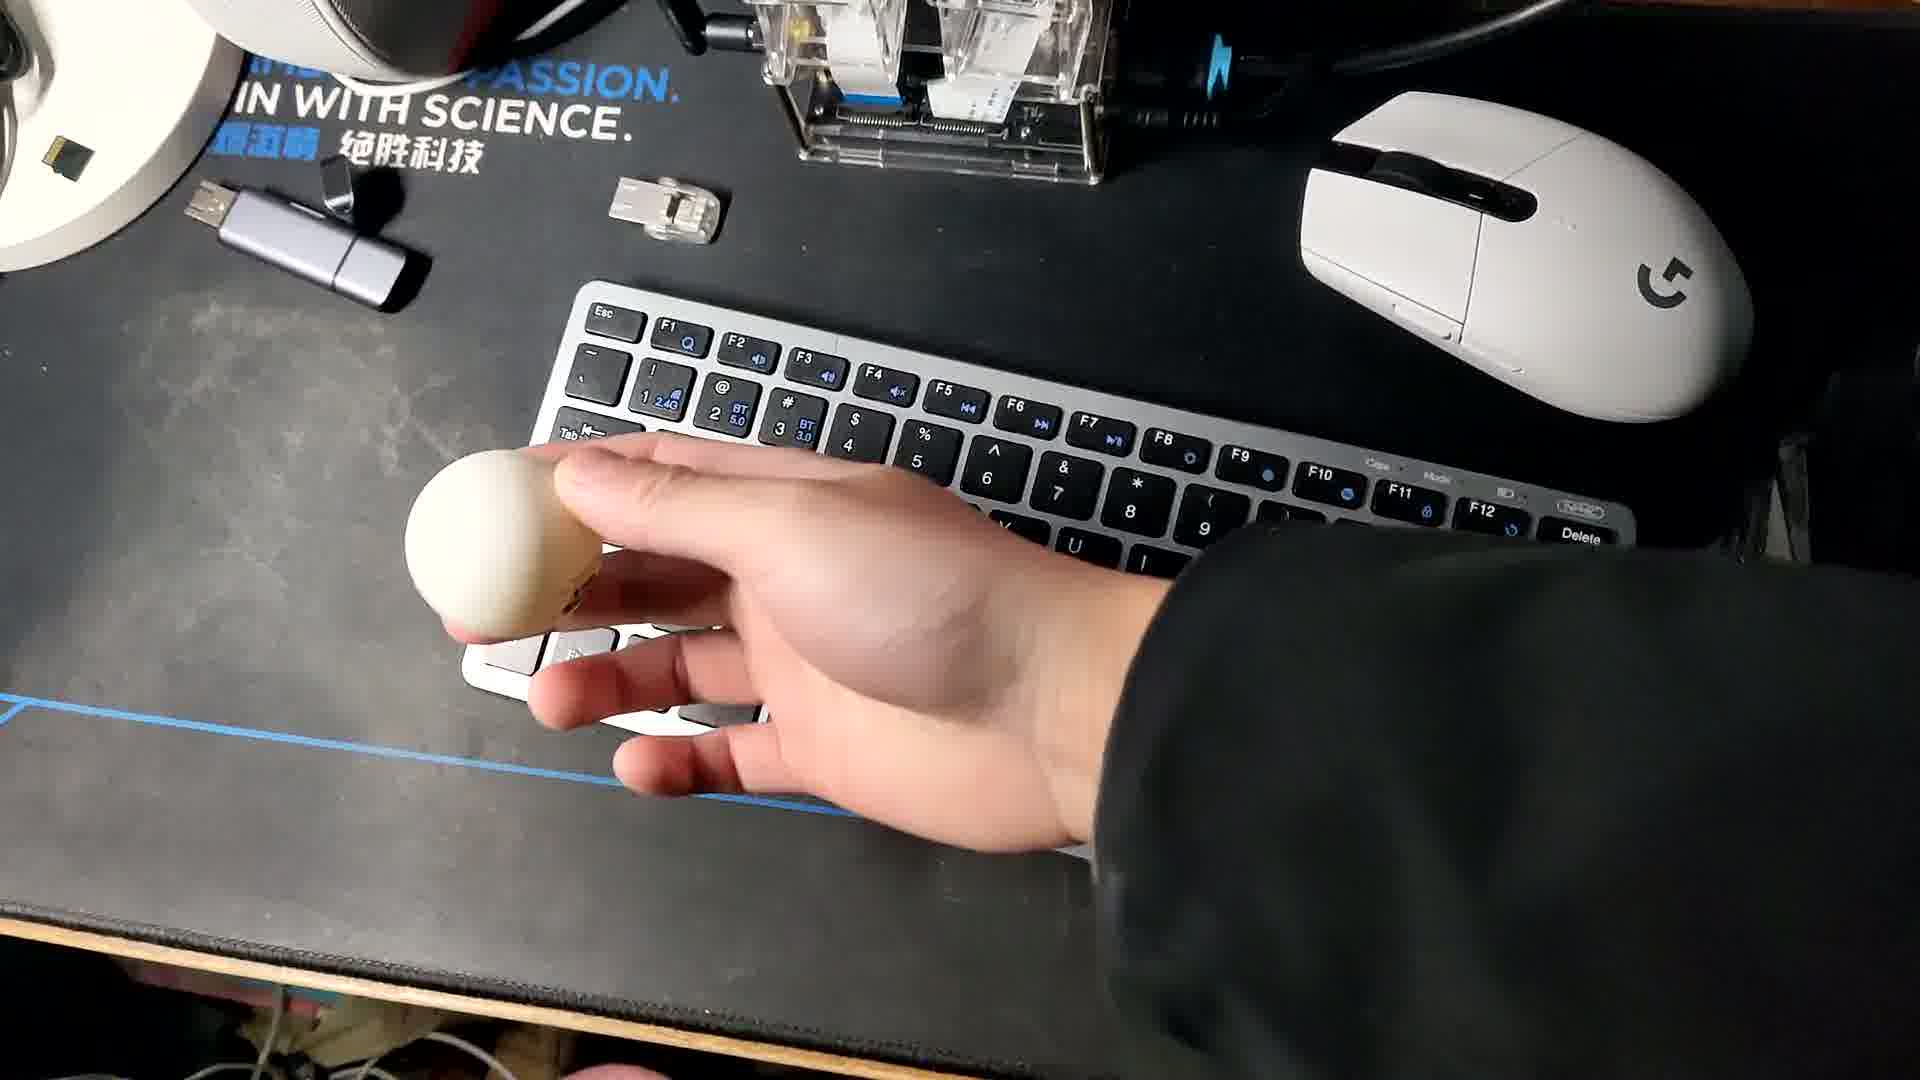Ball: (407, 450, 597, 647)
